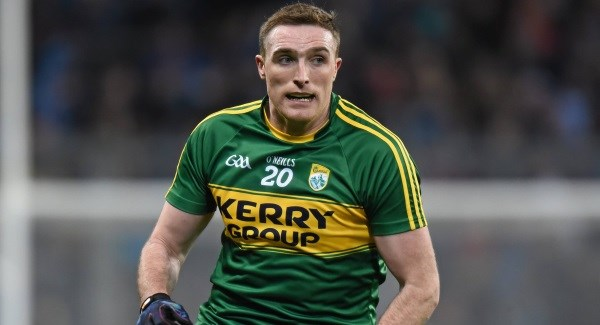player: (169, 9, 448, 304)
